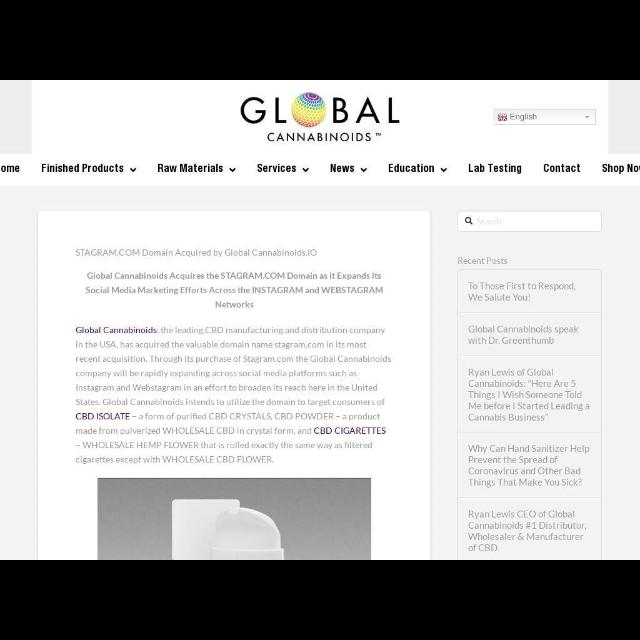icon: (465, 218, 473, 225), (440, 167, 448, 173), (129, 168, 137, 172), (302, 168, 310, 172), (360, 168, 368, 172), (230, 168, 237, 172), (585, 115, 589, 118)
image: (240, 93, 400, 143), (498, 113, 506, 121)
input: (458, 212, 602, 232)
panel: (39, 212, 432, 558)
spinner: (494, 110, 596, 124), (157, 162, 237, 174), (42, 163, 138, 173), (388, 164, 448, 174), (258, 164, 310, 172), (330, 163, 368, 173)
text: (75, 326, 393, 464), (87, 272, 386, 310), (466, 368, 592, 424), (468, 443, 590, 489), (469, 510, 588, 552), (468, 324, 580, 346), (467, 280, 577, 302), (75, 248, 317, 258), (41, 163, 123, 173), (157, 163, 223, 173), (468, 163, 522, 175), (602, 162, 640, 174), (387, 164, 435, 173), (457, 257, 508, 265), (543, 163, 581, 173), (257, 164, 295, 172), (510, 113, 538, 123), (476, 217, 502, 226), (330, 164, 354, 172), (2, 165, 20, 172)
toolbar: (1, 84, 639, 184)
